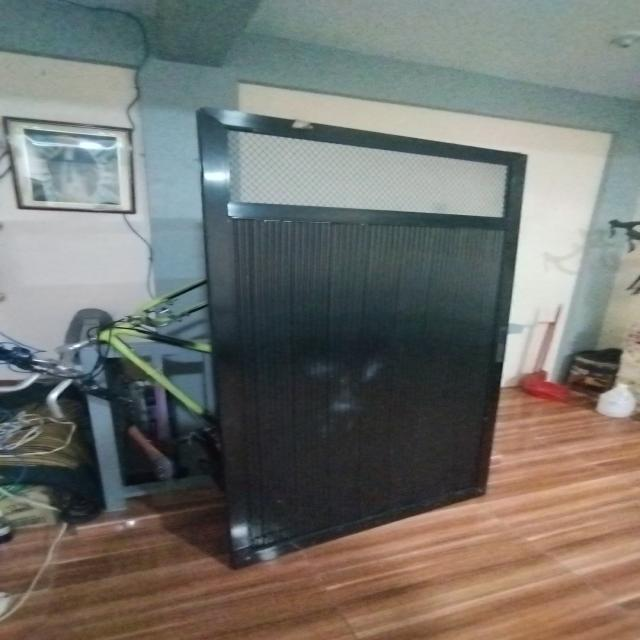door: (187, 100, 530, 569)
